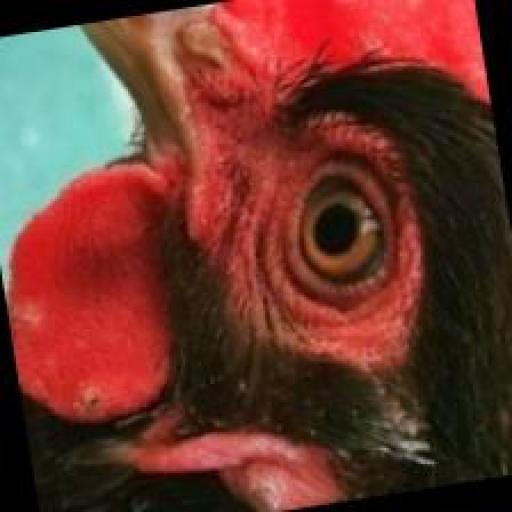disease: (54, 370, 128, 425), (0, 277, 60, 340)
